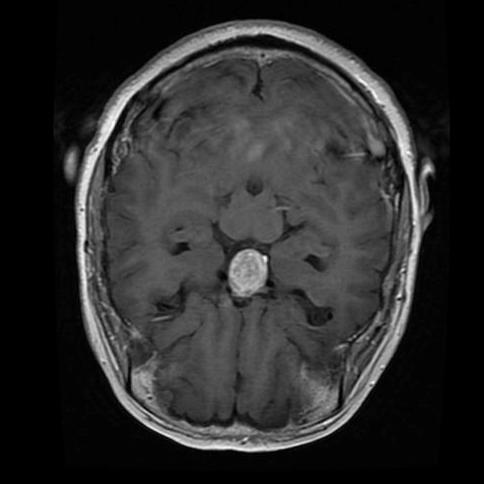Tumour-Pituitary: (225, 239, 276, 305)
